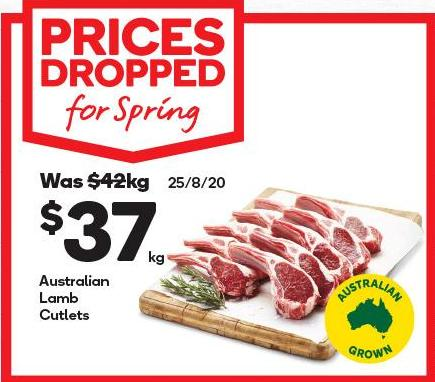description_block: (26, 273, 136, 327)
price_main: (23, 191, 186, 273)
product_image_block: (161, 192, 420, 359)
promo_text_block: (33, 162, 236, 192)
